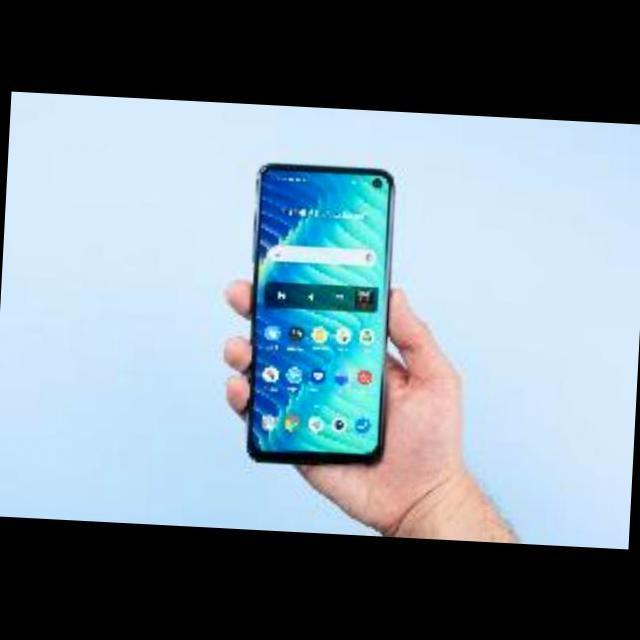mobile: (245, 159, 398, 470)
